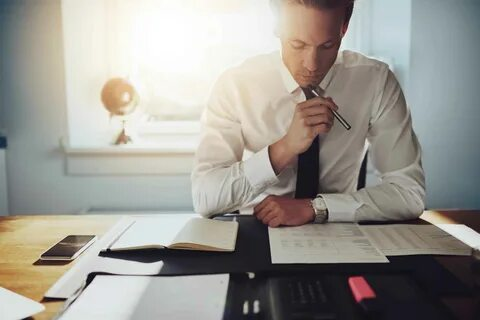awake: (190, 1, 428, 229)
